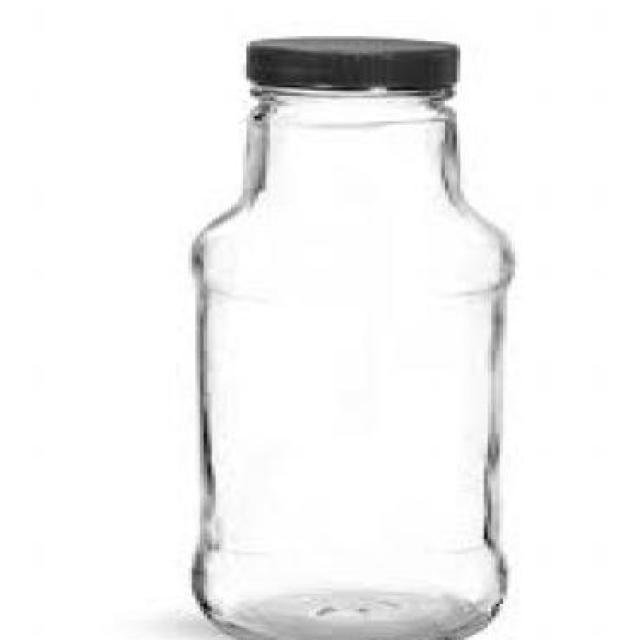kaca: (188, 85, 503, 640)
